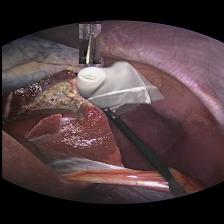Grasper: (78, 24, 100, 64), (98, 107, 120, 119)
Specimen Bag: (64, 59, 166, 107)
